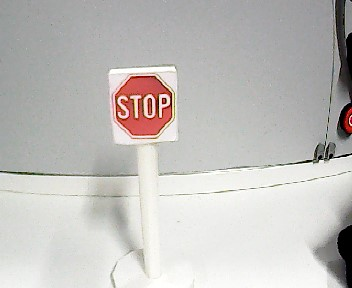stop-bord: (111, 72, 177, 142)
